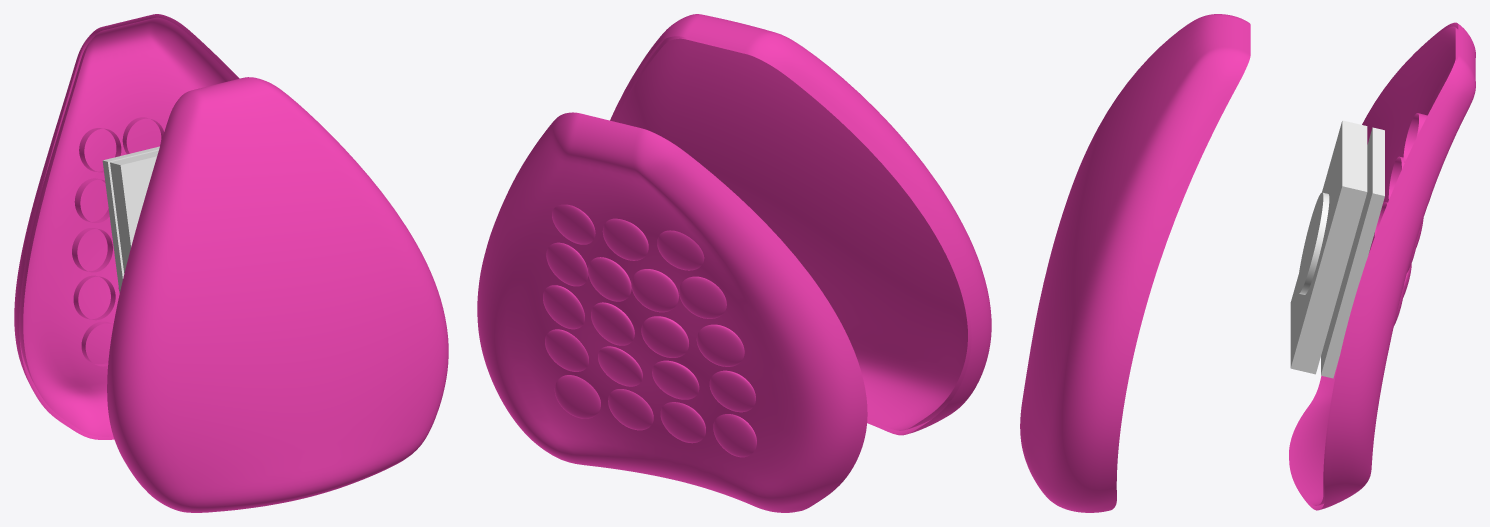
The model's file is HU1-open.fbx.
The picture shows the model from 3 angles, left to right: view 1: azimuth 30°, elevation 25°; view 2: azimuth 150°, elevation 25°; view 3: azimuth 270°, elevation 25°; orthographic projection. The views are drawn at different scales.
Visible parts, largest first — view 1: HU1, Computer/Charger; view 2: HU1; view 3: HU1, Computer/Charger.
Part boxes in pixels (<box>): HU1: <box>14,14,448,512</box>; Computer/Charger: <box>102,146,159,292</box>; HU1: <box>477,14,991,512</box>; HU1: <box>1020,14,1475,512</box>; Computer/Charger: <box>1290,120,1384,378</box>.
Bounding box in the file's own units: 86.38 × 90.8 × 87.74.
